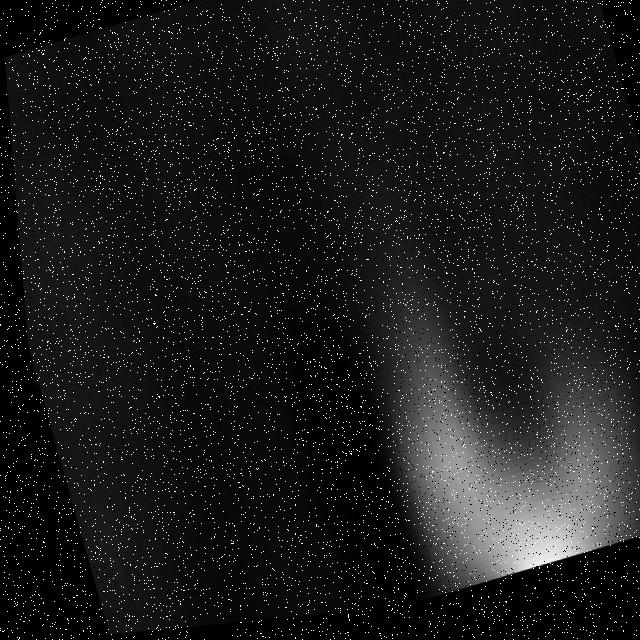person: (333, 248, 640, 613)
